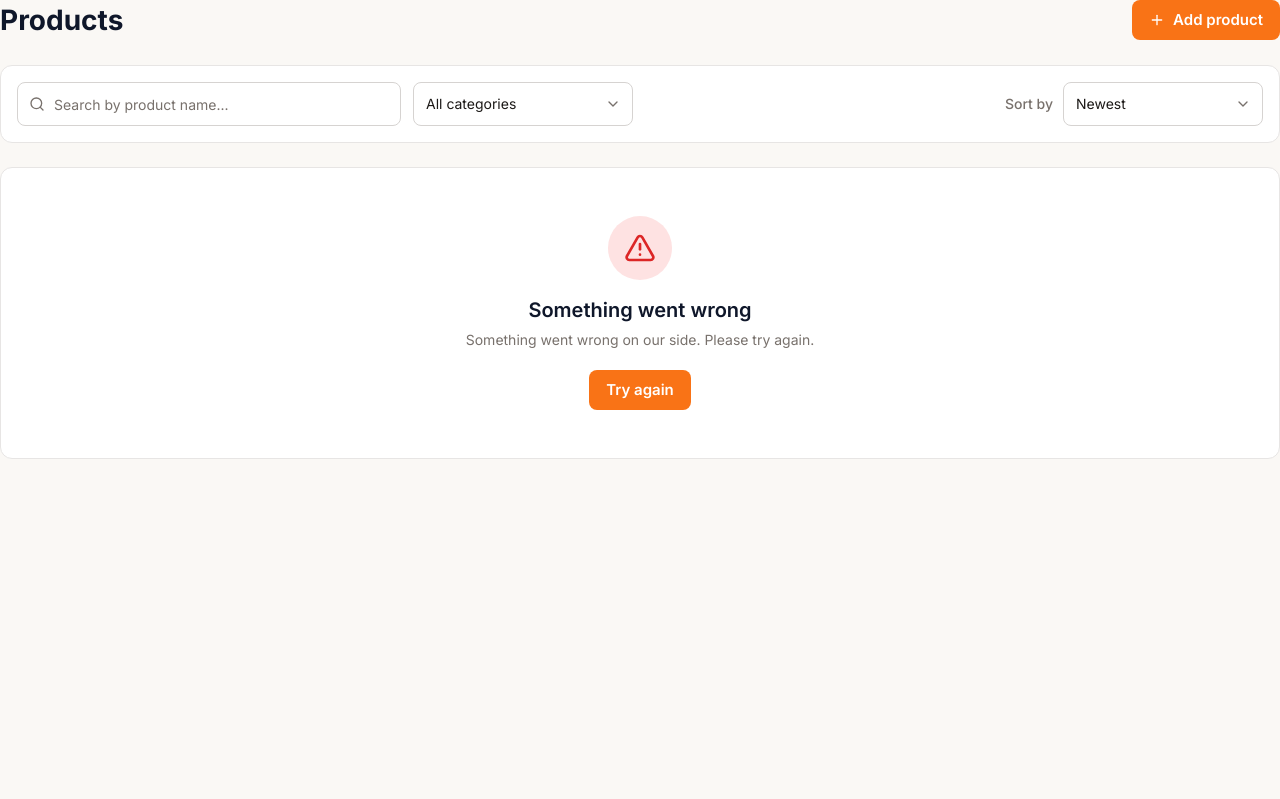
Admin Products page › shows error state and recovers on retry
Expected: the message is shown, [0,167,1279,459]
Click the button "Try again". click: (640, 390)
box: [589,370,691,410]
(page scrolled)
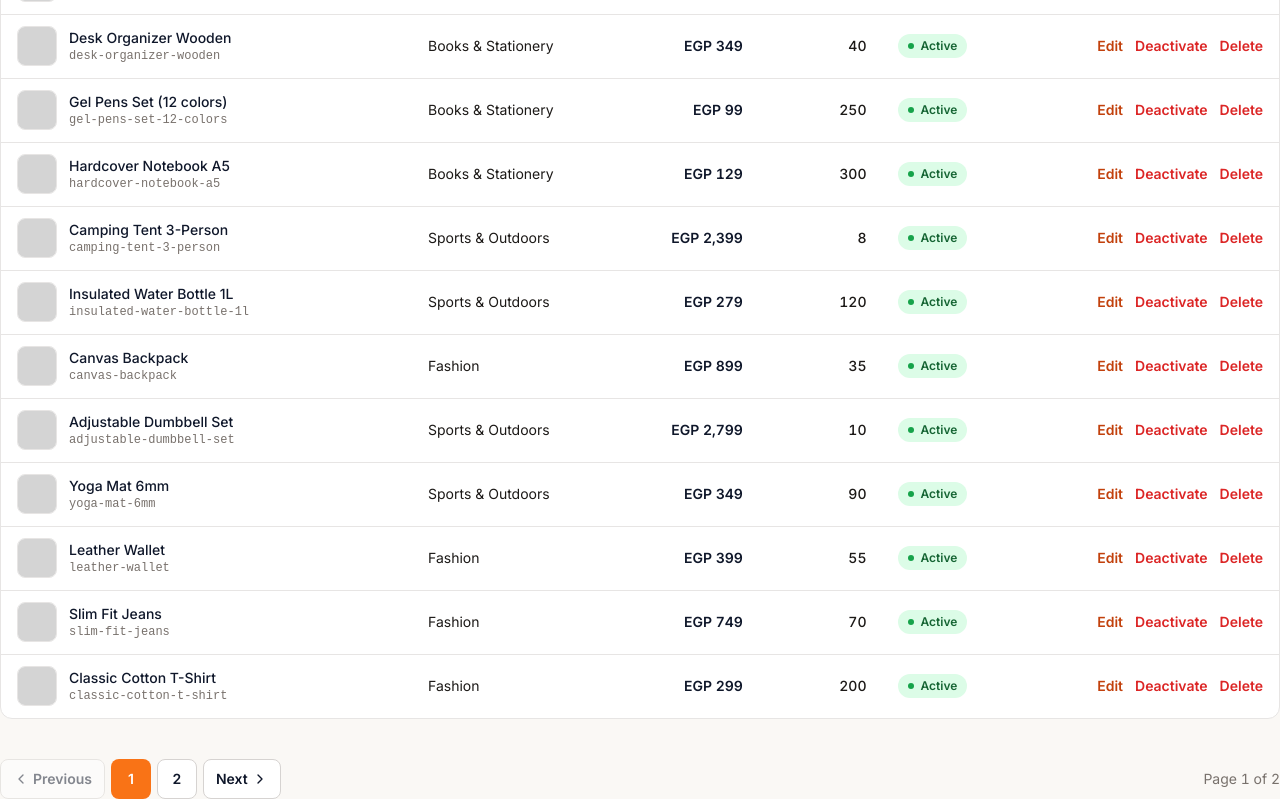
Expected: the text "Page 1 of 2" is shown, [1203,769,1279,789]
